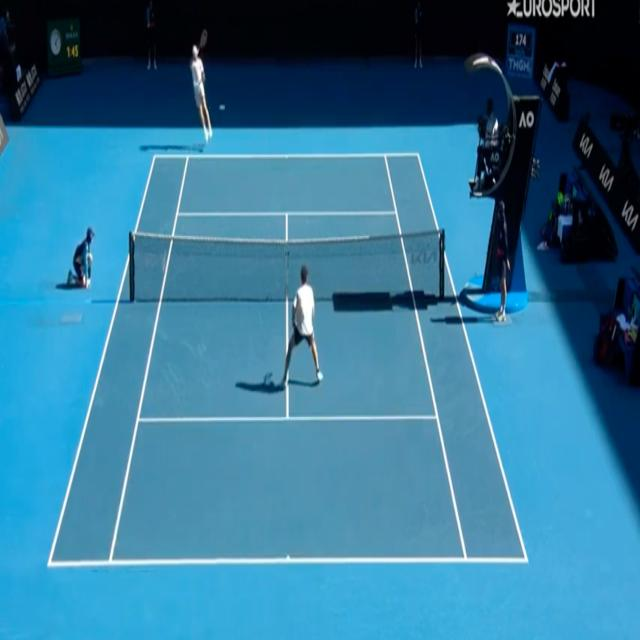ball: (218, 103, 226, 112)
